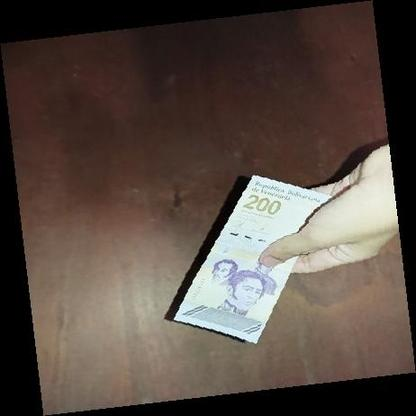two_hundred-front-vef: (173, 174, 332, 345)
